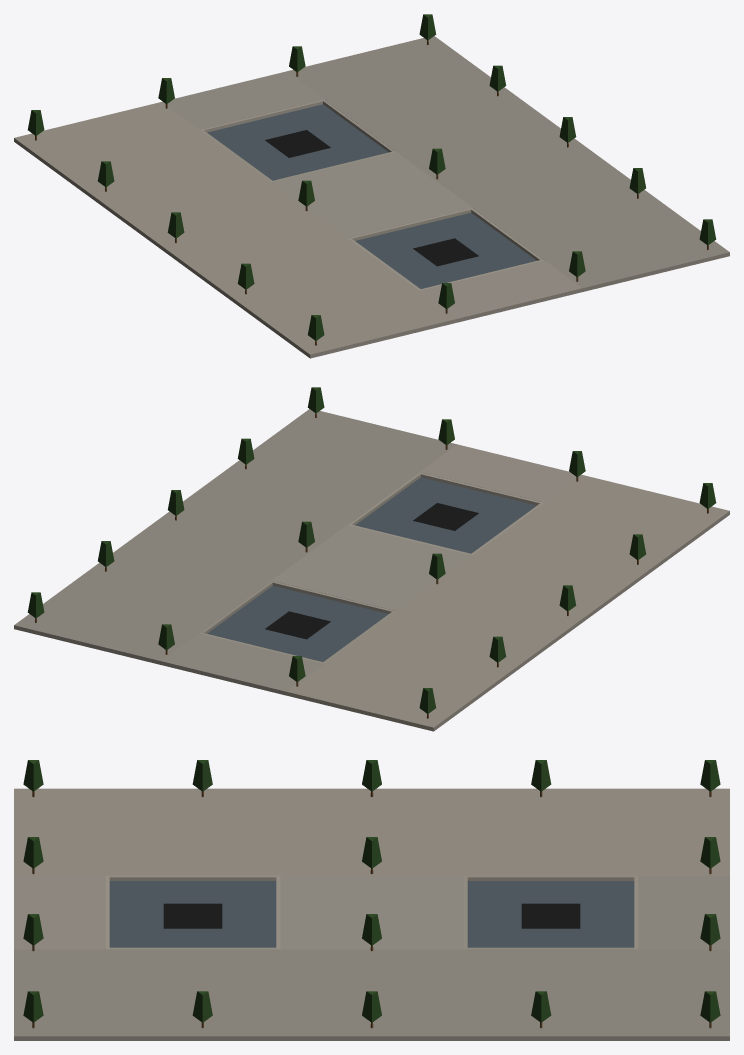
3 renders of one model, top to bottom at view 1: azimuth 30°, elevation 25°; view 2: azimuth 150°, elevation 25°; view 3: azimuth 270°, elevation 25°, orthographic. The views are drawn at different scales.
Visible parts, largest first — view 1: september-11-memorial-lod2; view 2: september-11-memorial-lod2; view 3: september-11-memorial-lod2.
Boxes of the visible parts, x1=… form: september-11-memorial-lod2: x1=14, y1=14, x2=729, y2=358; september-11-memorial-lod2: x1=14, y1=387, x2=729, y2=731; september-11-memorial-lod2: x1=14, y1=760, x2=729, y2=1040.
Size of the model in its own units: 180 by 13.59 by 220.
